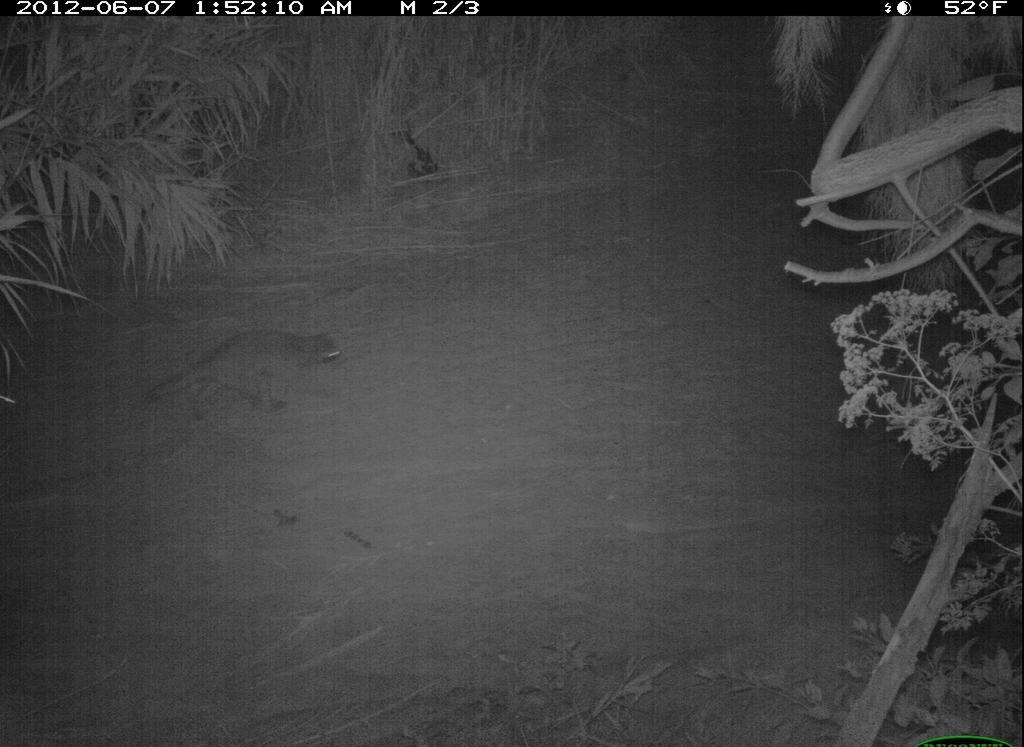raccoon: (143, 321, 346, 436)
